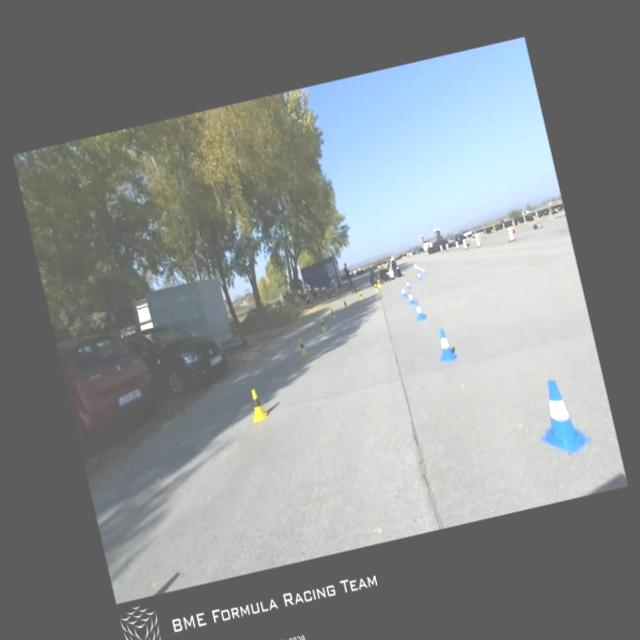blue_cone: (528, 372, 594, 458), (432, 326, 458, 364), (412, 300, 426, 322), (407, 290, 415, 306), (400, 284, 408, 298), (404, 278, 411, 290), (419, 267, 426, 276), (416, 270, 422, 280)
yellow_cone: (246, 388, 268, 423), (296, 337, 308, 356), (318, 318, 326, 332), (329, 306, 336, 320), (372, 282, 379, 293), (342, 298, 348, 310), (358, 290, 363, 300), (376, 280, 382, 288)
